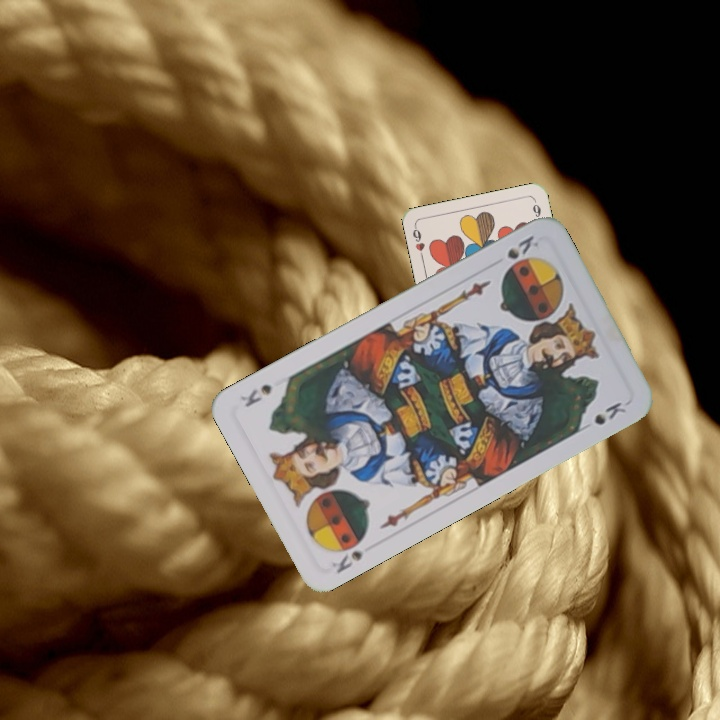H9: (409, 222, 427, 262)
SK: (503, 231, 542, 263), (327, 546, 366, 576)
